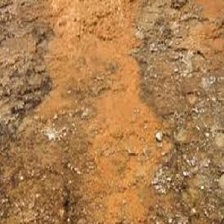clay_soil: (5, 22, 222, 203)
